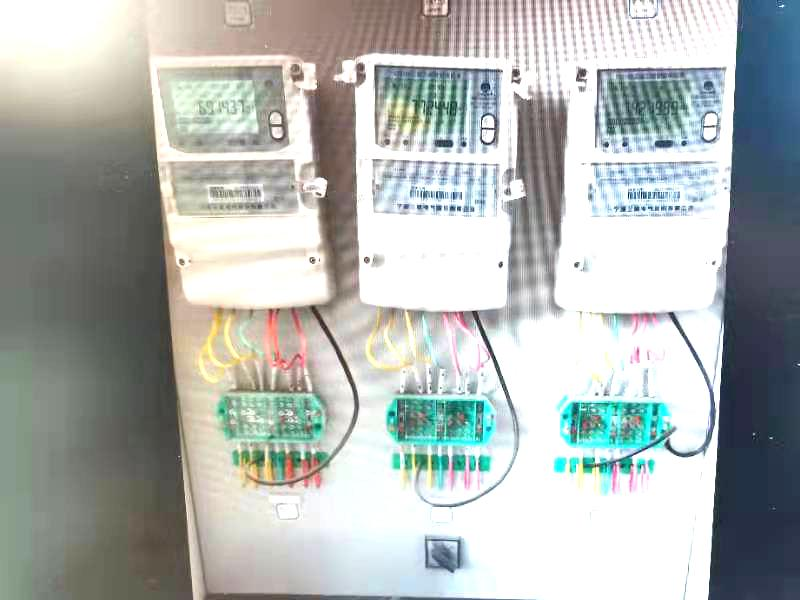digital: (149, 55, 329, 307), (565, 54, 732, 311), (354, 54, 518, 311)
